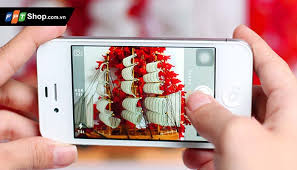iphone: (33, 32, 261, 150)
iphone4: (32, 32, 260, 150)
